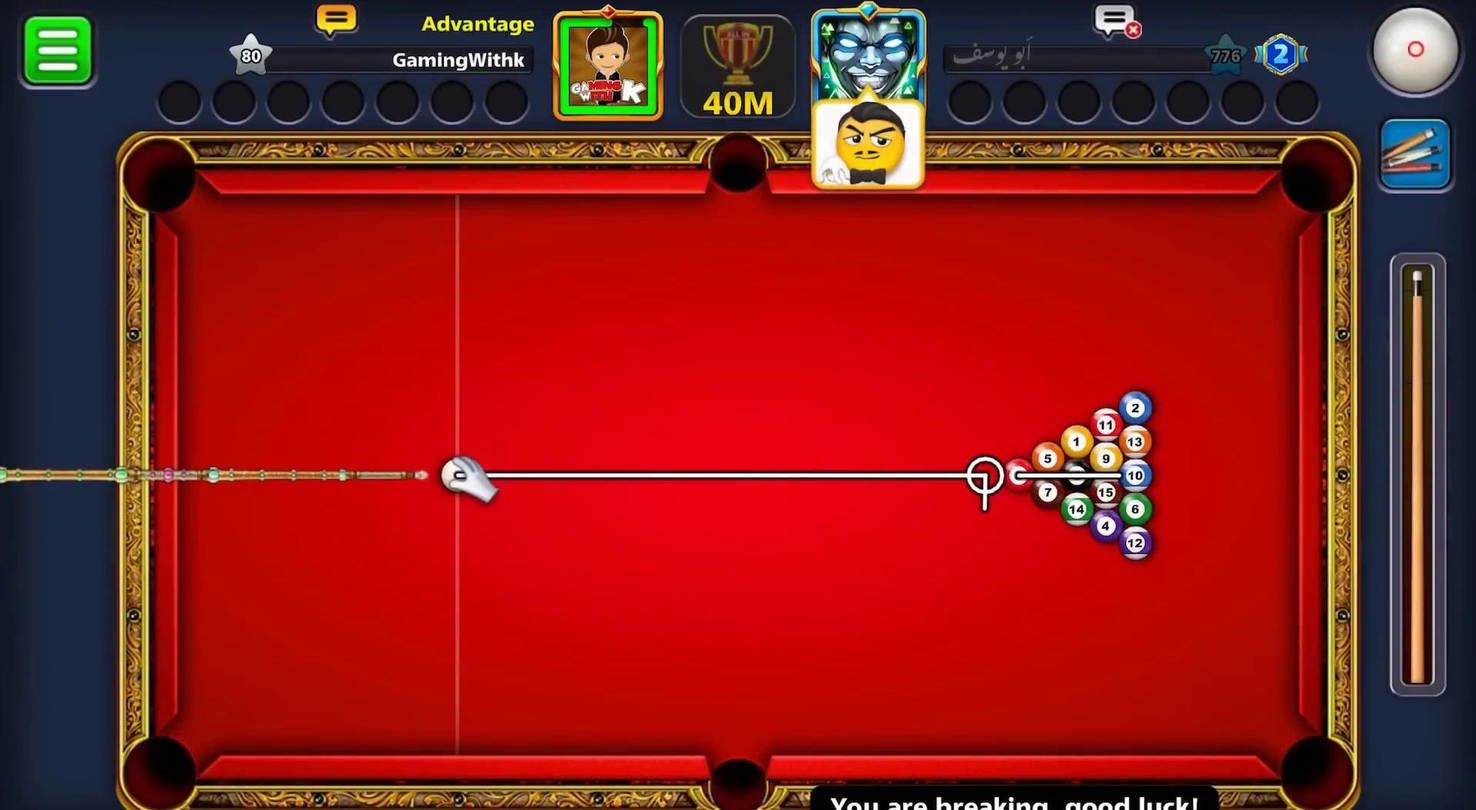Ball: (1118, 389, 1153, 425), (1119, 526, 1153, 562), (1118, 492, 1153, 526), (1029, 475, 1064, 508), (1089, 508, 1122, 542), (1119, 459, 1152, 492), (1090, 408, 1122, 442), (1002, 455, 1032, 491), (1120, 425, 1152, 458), (1061, 492, 1093, 525), (1089, 477, 1122, 509), (1061, 458, 1092, 492), (1061, 424, 1092, 458), (1032, 441, 1065, 472), (1090, 442, 1121, 474)
Force: (1391, 252, 1448, 699)
Guideline: (460, 467, 1126, 518)
Hole: (1260, 721, 1371, 809), (1279, 135, 1355, 220), (122, 135, 200, 213), (122, 732, 198, 808), (706, 132, 768, 195), (703, 754, 771, 809)
Play_Area: (178, 193, 1301, 755)
Spin: (1364, 1, 1474, 105)
White: (438, 455, 480, 492)
